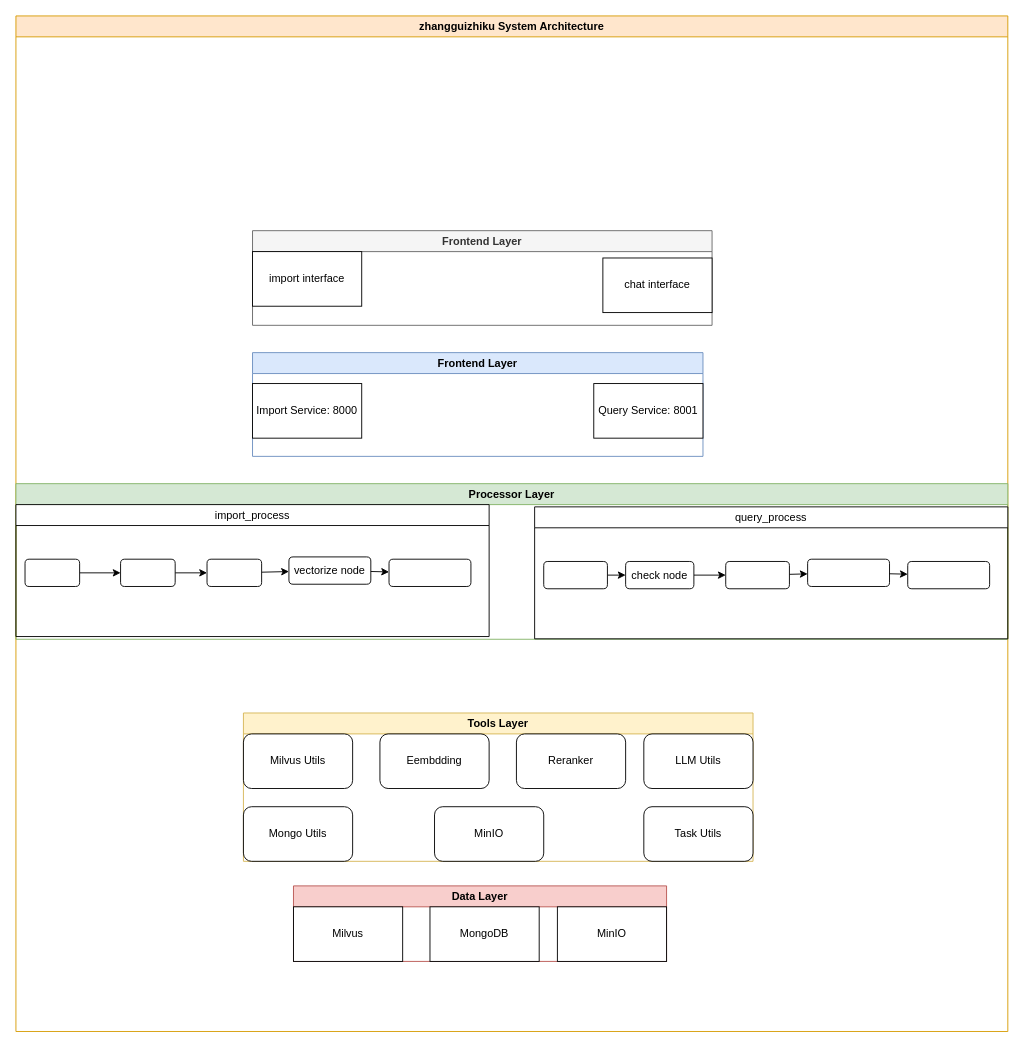
The diagram is 1024 pixels wide and 1047 high, and some of its shapes have lost their labels. The centre of each missing label's shape, as x and y in pixels:
entry node: (x=52, y=572)
fusion node: (x=757, y=575)
Inbound node: (x=429, y=572)
output node: (x=948, y=575)
pdf to md: (x=147, y=572)
rank node: (x=848, y=572)
split node: (x=234, y=572)
submit node: (x=575, y=575)
